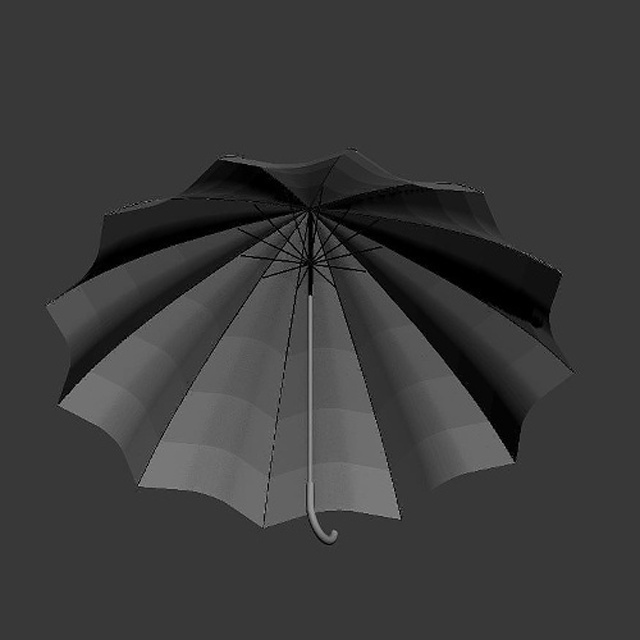umbrella: (44, 144, 578, 544)
